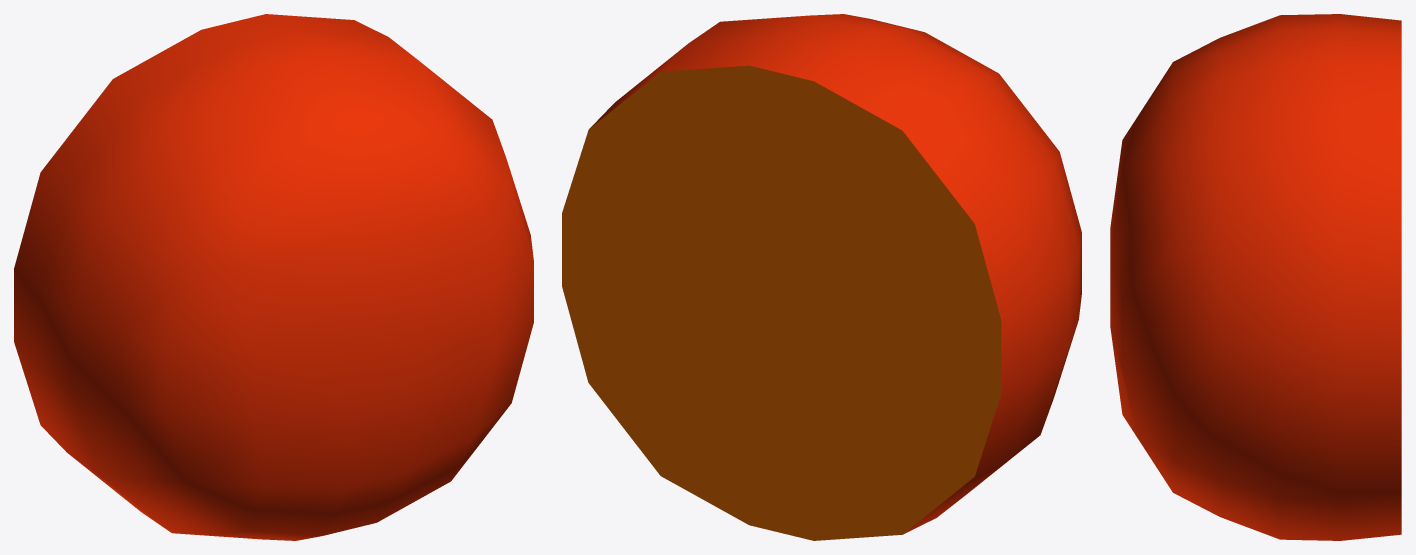
Rendered from mesh_tomato_stage03.fbx.
3 views of the same model, side by side, from view 1: azimuth 30°, elevation 25°; view 2: azimuth 150°, elevation 25°; view 3: azimuth 270°, elevation 25° (orthographic).
Visible parts, largest first — view 1: mesh_tomato_stage03; view 2: mesh_tomato_stage03; view 3: mesh_tomato_stage03.
Boxes of the visible parts, bbox=[...] form: mesh_tomato_stage03: bbox=[14, 14, 533, 540]; mesh_tomato_stage03: bbox=[562, 14, 1081, 540]; mesh_tomato_stage03: bbox=[1110, 14, 1401, 540].
Size of the model in its own units: 0.1904 by 0.1904 by 0.1083.
